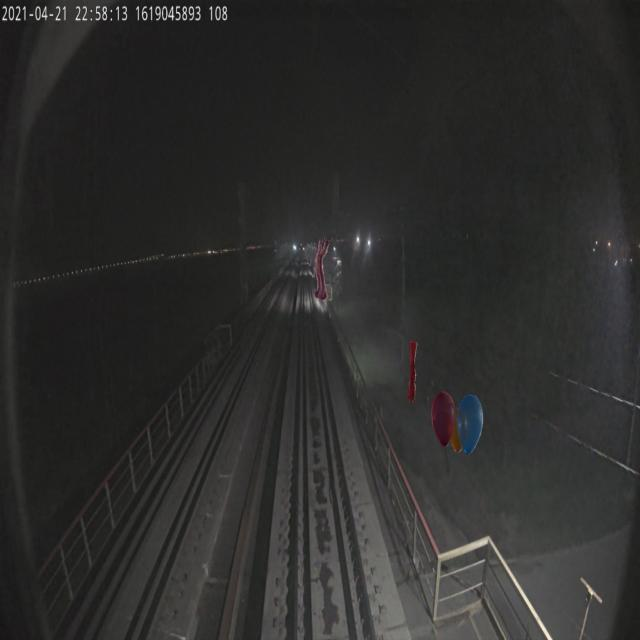balloon: (431, 390, 483, 454)
floating object: (314, 237, 329, 301), (407, 340, 418, 404)
